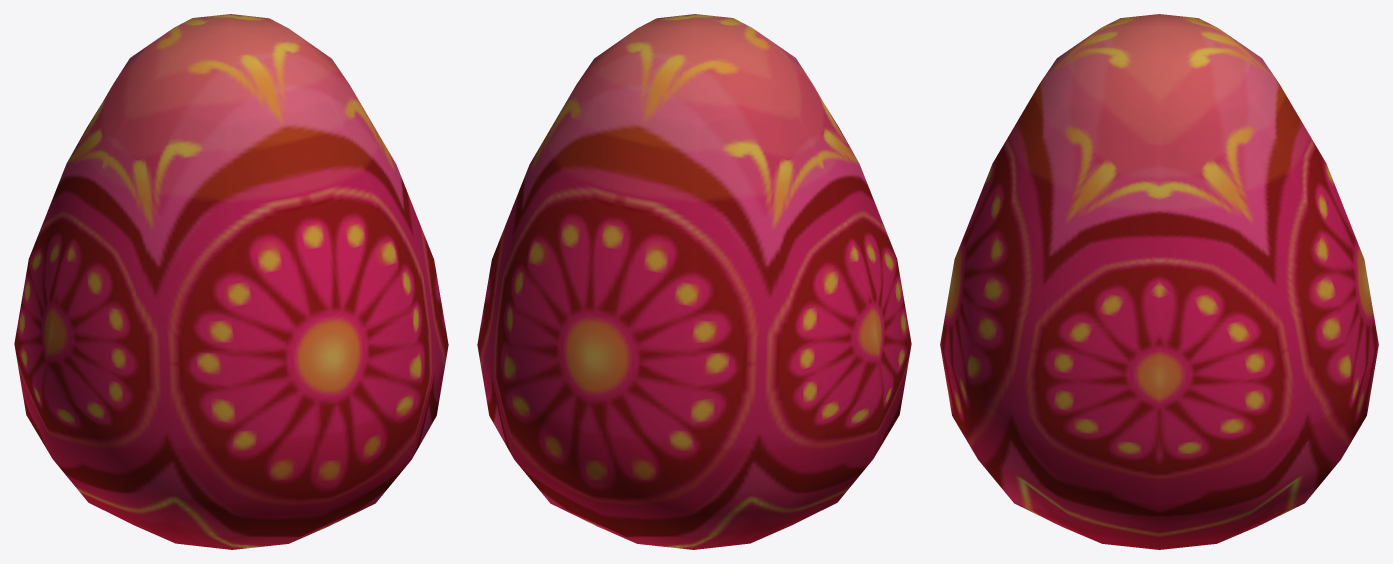
Rendered from Egg_07(HighPoly).FBX.
3 views of the same model, side by side, from view 1: azimuth 30°, elevation 25°; view 2: azimuth 150°, elevation 25°; view 3: azimuth 270°, elevation 25° (orthographic).
Visible parts, largest first — view 1: Egg_07(HighPoly); view 2: Egg_07(HighPoly); view 3: Egg_07(HighPoly).
Boxes of the visible parts, box(x1,y1,x2,y2) form: Egg_07(HighPoly): box(14, 14, 448, 549); Egg_07(HighPoly): box(477, 14, 911, 549); Egg_07(HighPoly): box(940, 14, 1378, 549).
Size of the model in its own units: 0.4668 by 0.5861 by 0.4674.
